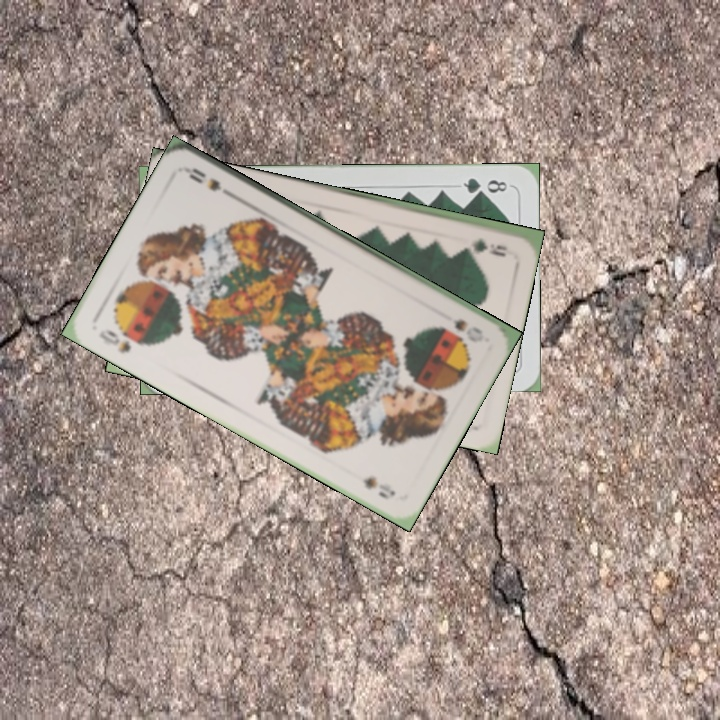G8: (459, 174, 510, 198)
G9: (468, 233, 510, 257)
SO: (95, 325, 146, 356), (449, 315, 487, 346)
